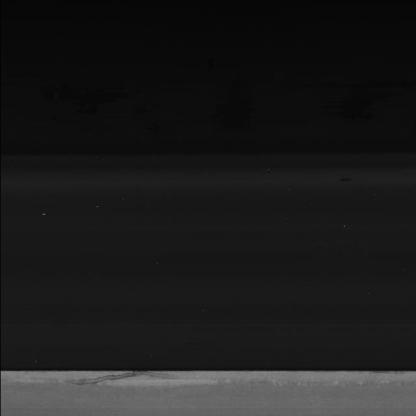water_spot: (62, 372, 175, 399)
